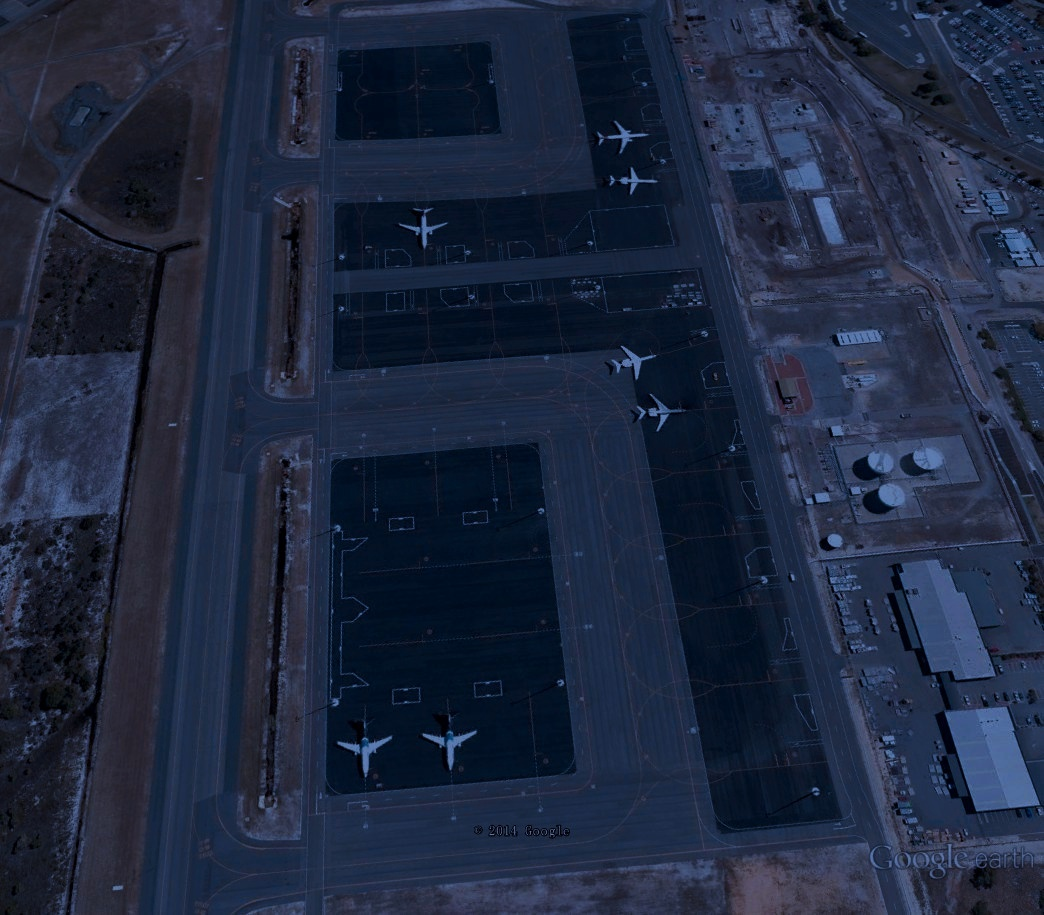aircraft: (331, 712, 400, 783), (418, 707, 482, 779), (631, 391, 693, 439), (605, 336, 663, 387), (592, 116, 656, 162), (397, 203, 452, 253), (604, 164, 662, 203)
